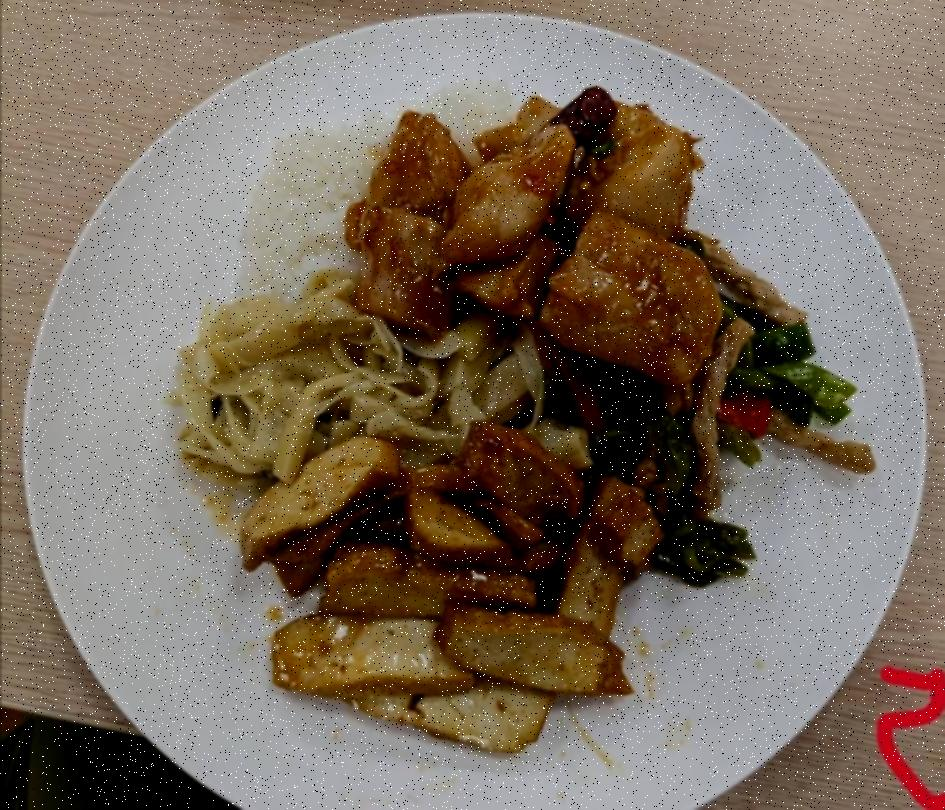plate: (9, 12, 924, 810)
side dish: (244, 430, 664, 751), (541, 241, 858, 582), (168, 296, 547, 479)
spicy chicken: (346, 79, 722, 392)
white rice: (243, 81, 533, 314)
